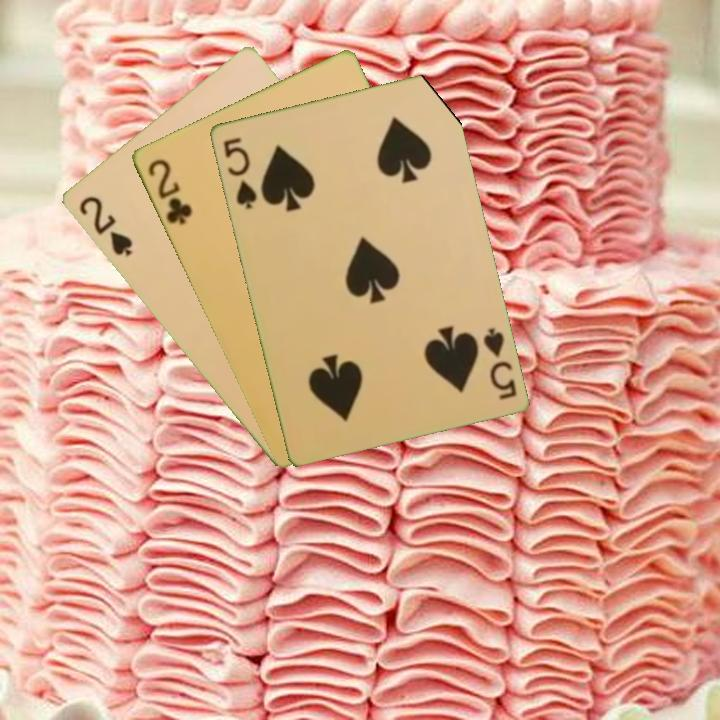2c: (143, 155, 195, 228)
2s: (75, 192, 135, 259)
5s: (219, 133, 260, 212), (479, 323, 519, 402)
